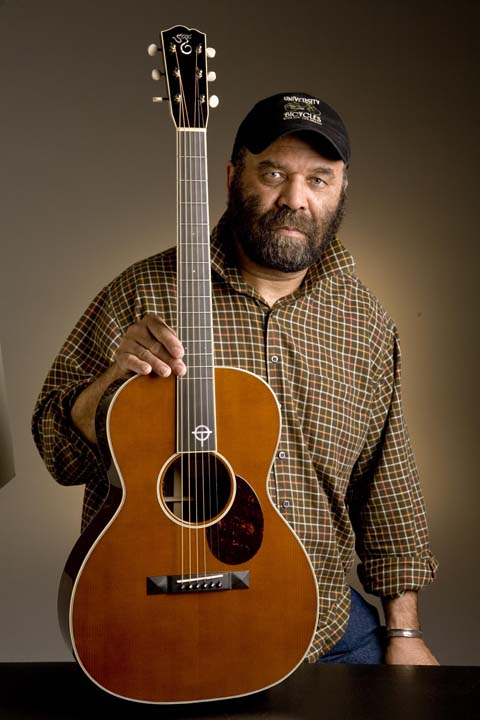guitar: (57, 22, 320, 702)
